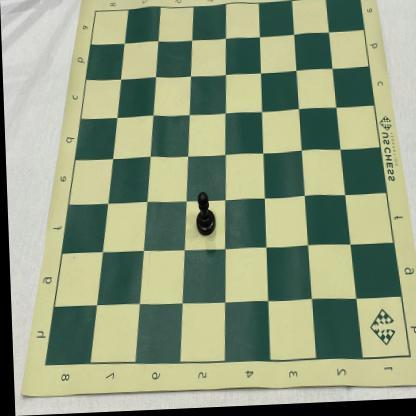black-pawn: (192, 191, 216, 239)
